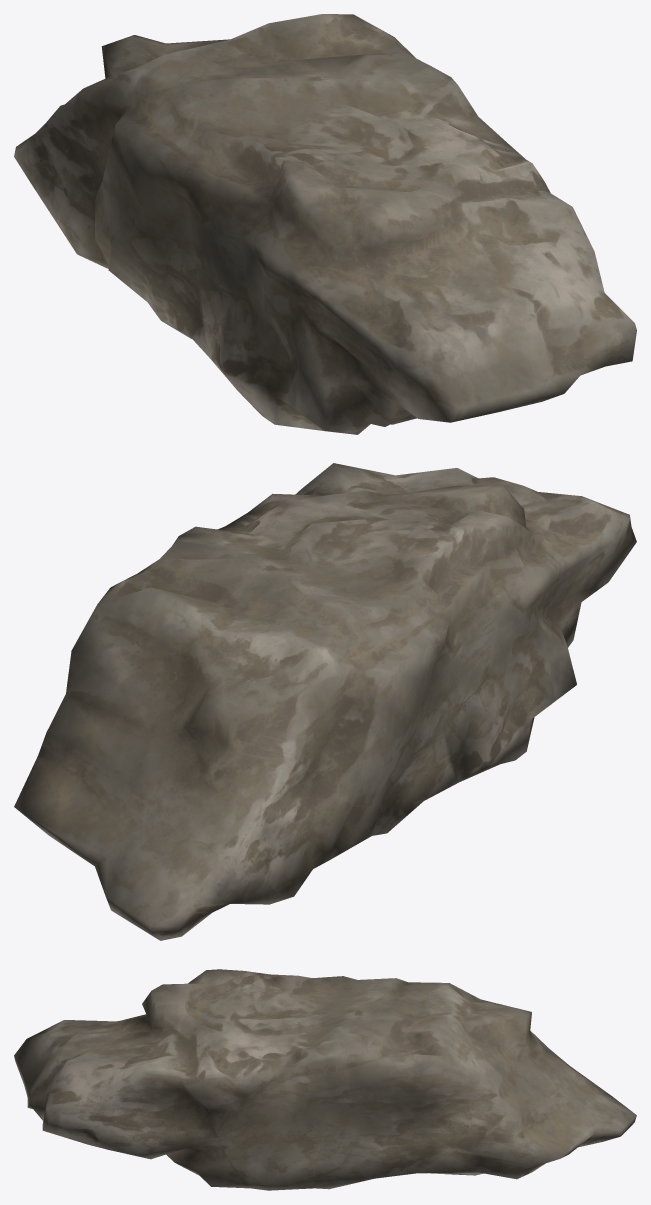
File: Rock_8.fbx
The picture shows the model from 3 angles, top to bottom: view 1: azimuth 30°, elevation 25°; view 2: azimuth 150°, elevation 25°; view 3: azimuth 270°, elevation 25°; orthographic projection. The views are drawn at different scales.
Visible parts, largest first — view 1: Rock_8; view 2: Rock_8; view 3: Rock_8.
Boxes of the visible parts, x1=… form: Rock_8: x1=14, y1=14, x2=636, y2=434; Rock_8: x1=14, y1=463, x2=636, y2=940; Rock_8: x1=14, y1=969, x2=636, y2=1190.
Size of the model in its own units: 285 by 226 by 797.
1 material, 1 textured.
